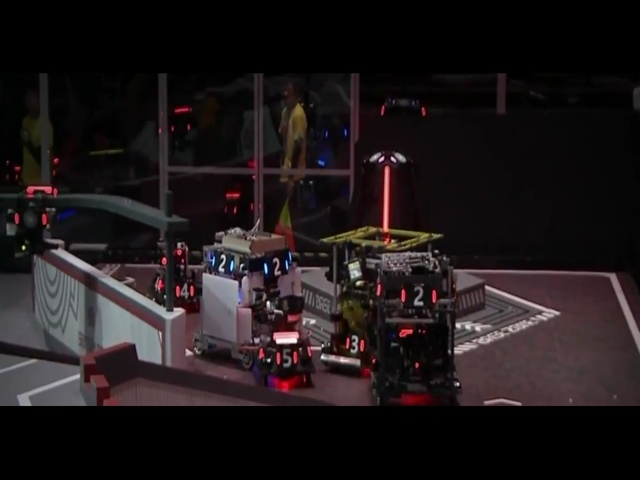plate: (297, 339, 348, 371), (262, 178, 299, 205), (410, 317, 434, 346), (405, 171, 427, 191), (296, 100, 312, 119)
